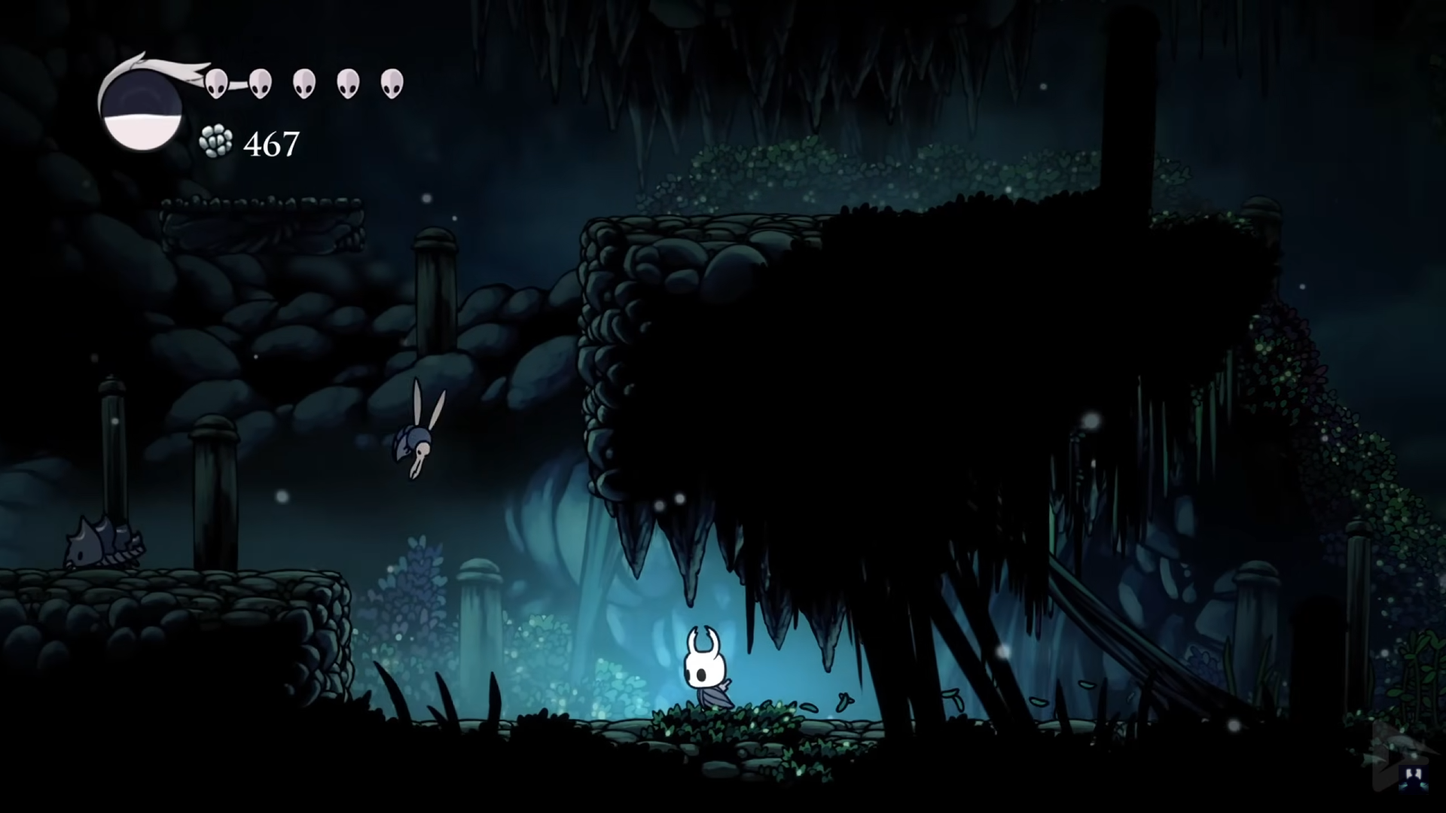HK: (678, 623, 737, 715)
